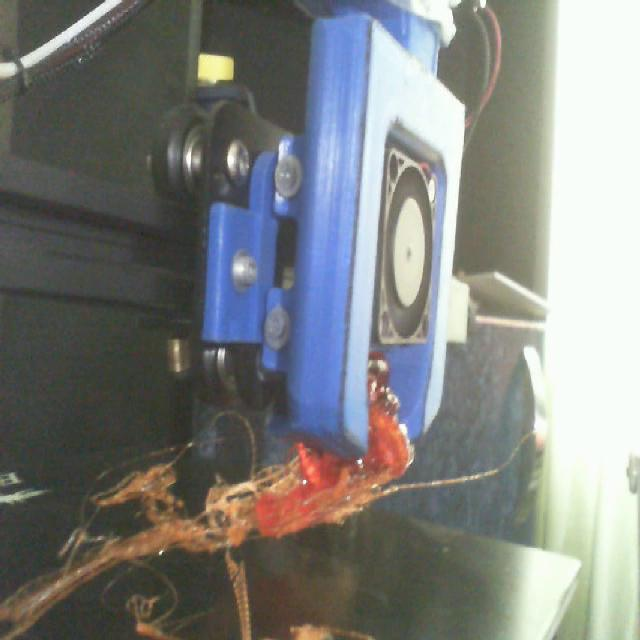spaghetti: (0, 355, 414, 636), (102, 562, 215, 639), (227, 553, 251, 639), (289, 623, 372, 640)
